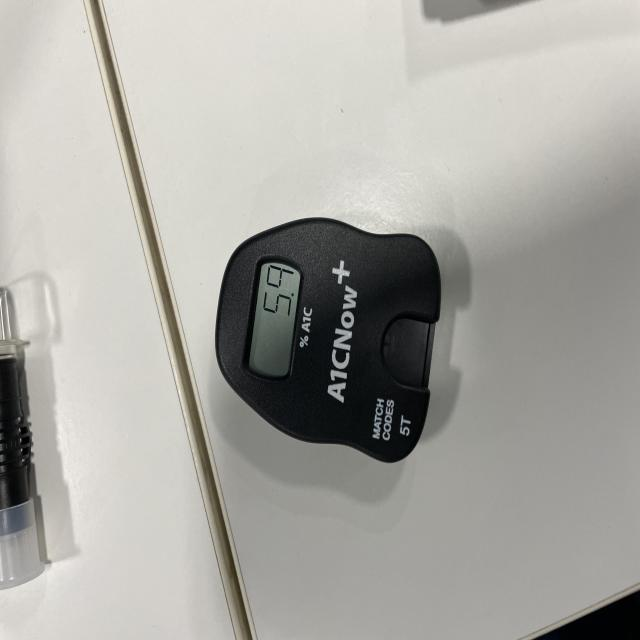hba1c: (214, 218, 455, 466)
